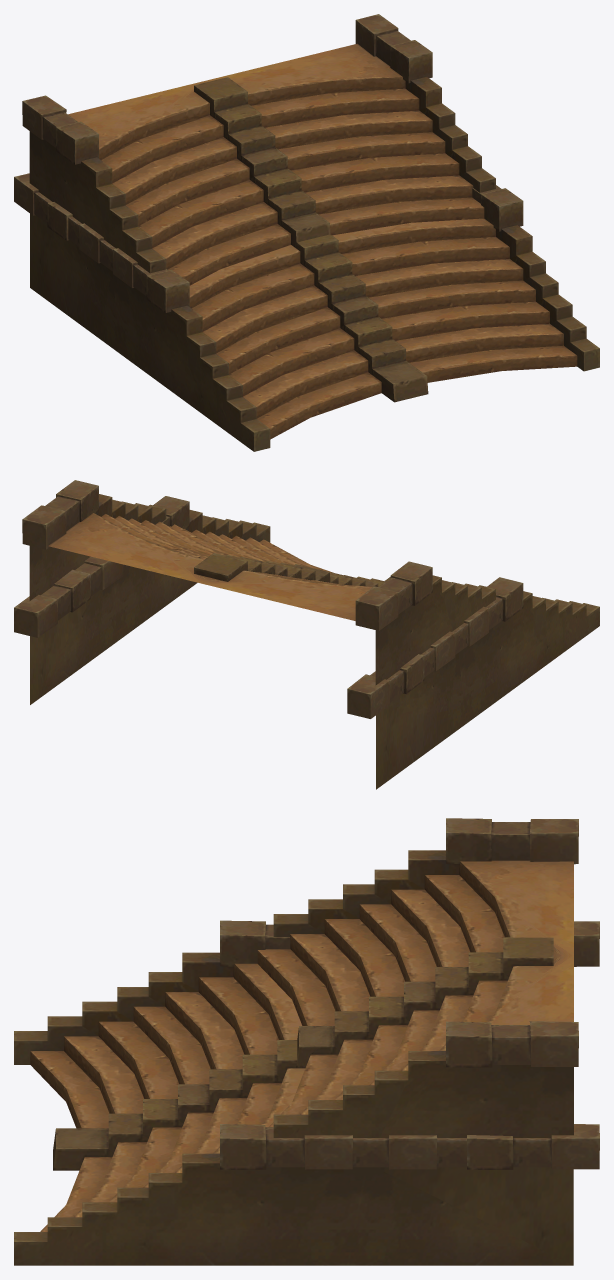
The model's file is shakian_stair_base4_brick8x4_01_01.FBX.
3 renders of one model, top to bottom at view 1: azimuth 30°, elevation 25°; view 2: azimuth 150°, elevation 25°; view 3: azimuth 270°, elevation 25°, orthographic. The views are drawn at different scales.
Parts seen in each view (by area): view 1: shakian_stair_base4_brick8x4_01_01; view 2: shakian_stair_base4_brick8x4_01_01; view 3: shakian_stair_base4_brick8x4_01_01.
Part boxes in pixels (box(x1,y1,x2,y2)): shakian_stair_base4_brick8x4_01_01: box(14, 14, 599, 451); shakian_stair_base4_brick8x4_01_01: box(14, 480, 599, 789); shakian_stair_base4_brick8x4_01_01: box(14, 818, 599, 1265).
Size of the model in its own units: 9.16 by 4.56 by 10.37.
